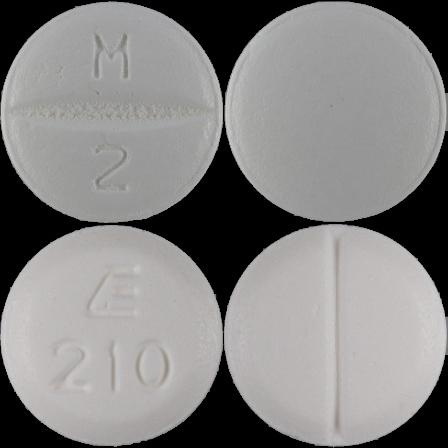50436-7054: (0, 0, 224, 224)
